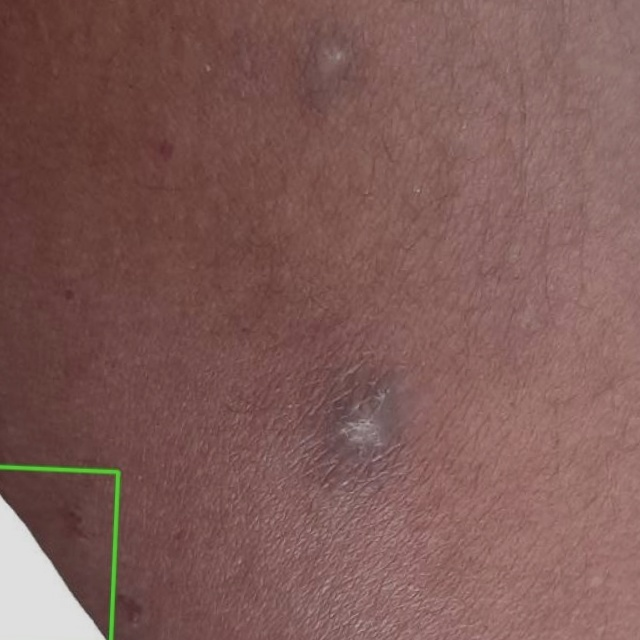Scabies: (0, 468, 119, 639)
